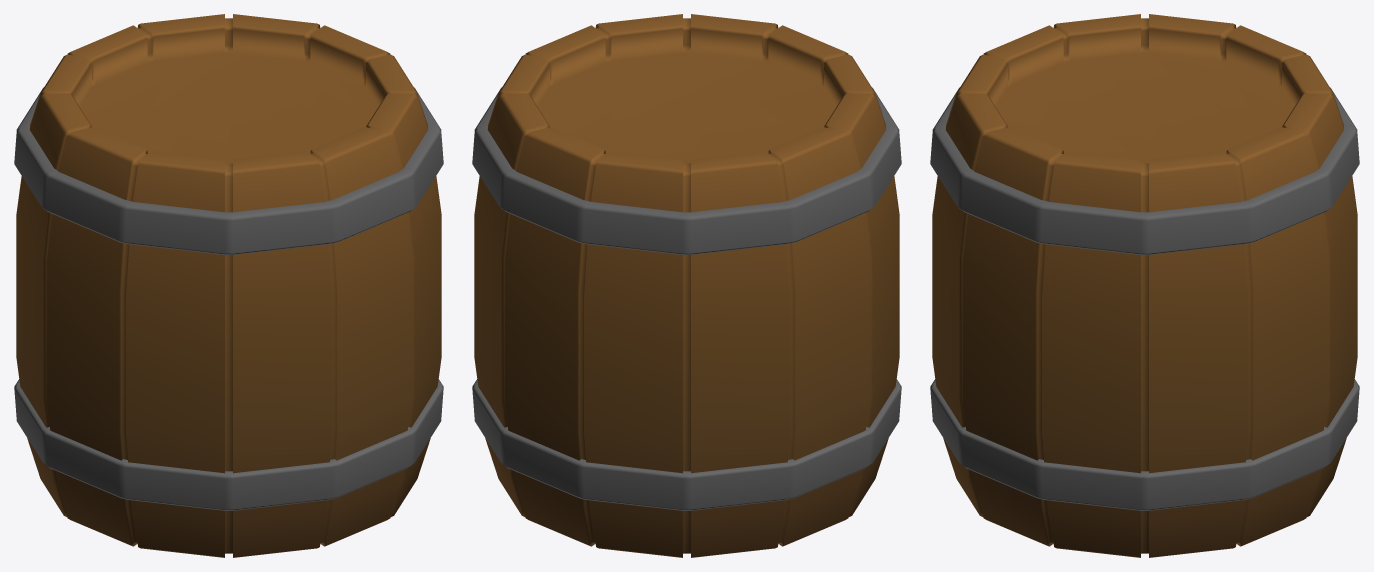
Rendered from Barrel_2.fbx.
3 views of the same model, side by side, from view 1: azimuth 30°, elevation 25°; view 2: azimuth 150°, elevation 25°; view 3: azimuth 270°, elevation 25° (orthographic).
Parts seen in each view (by area): view 1: Barrel_2; view 2: Barrel_2; view 3: Barrel_2.
Boxes of the visible parts, x1,y1,x2,y2 form: Barrel_2: (14,14,443,557); Barrel_2: (472,14,901,557); Barrel_2: (930,14,1359,557).
Size of the model in its own units: 107 by 107 by 107.
